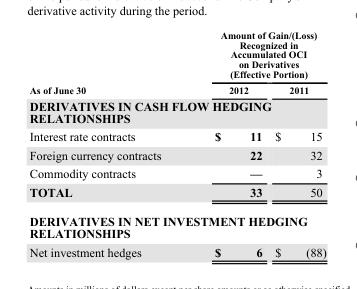table: (28, 29, 325, 258)
table column: (28, 29, 187, 258), (187, 29, 267, 258), (267, 29, 325, 258)
table column header: (28, 29, 325, 96)
table projected row header: (28, 206, 325, 242), (28, 96, 325, 126)
table row: (28, 29, 325, 81), (28, 206, 325, 242), (28, 96, 325, 126), (28, 182, 325, 206), (28, 126, 325, 145), (28, 163, 325, 182), (28, 145, 325, 163), (28, 242, 325, 258), (28, 81, 325, 96)
table spanning cell: (28, 29, 187, 96), (187, 29, 325, 81)
